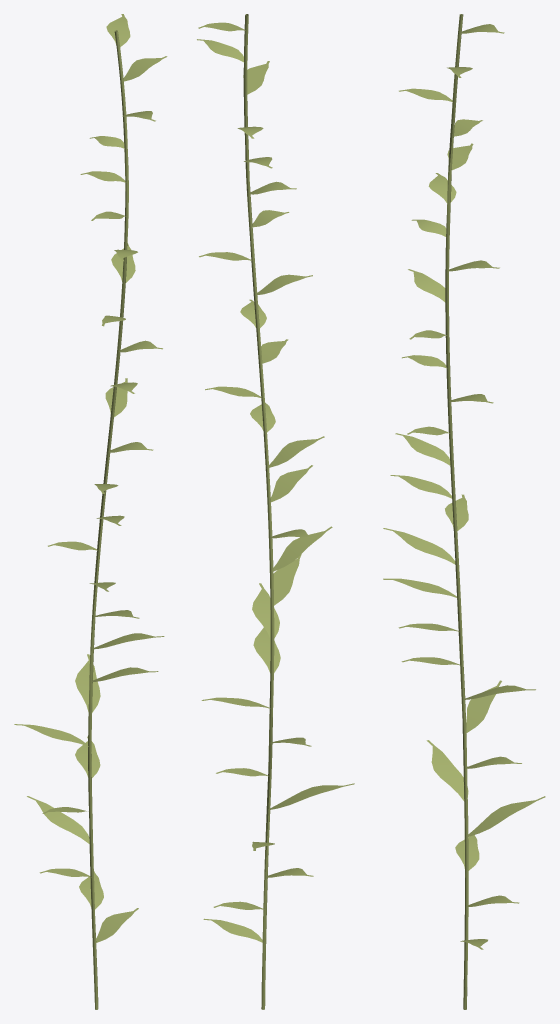
The model's file is kt_kelp_a.glb.
3 renders of one model, left to right at view 1: azimuth 30°, elevation 25°; view 2: azimuth 150°, elevation 25°; view 3: azimuth 270°, elevation 25°, orthographic. The views are drawn at different scales.
Visible parts, largest first — view 1: kt_kelp; view 2: kt_kelp; view 3: kt_kelp.
Part boxes in pixels (x1,y1,x2,y2): kt_kelp: [14, 14, 167, 1009]; kt_kelp: [197, 14, 354, 1009]; kt_kelp: [383, 14, 545, 1009].
Size of the model in its own units: 2.56 by 17 by 2.5.
